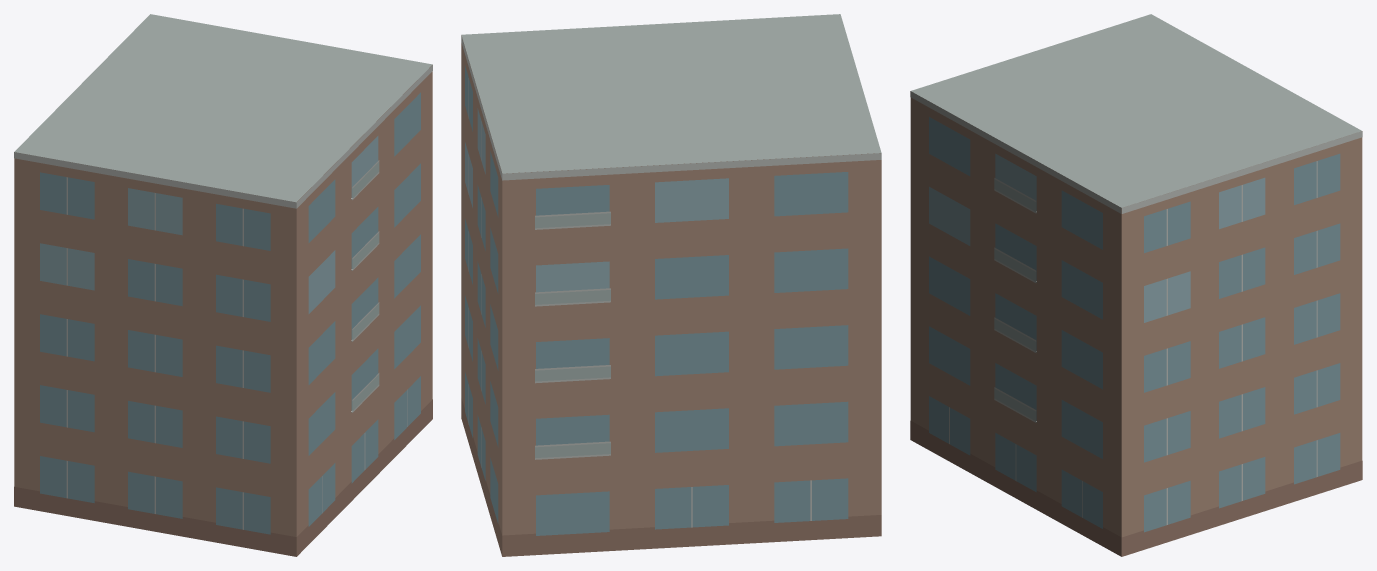
Rendered from survey-upis-32942185.glb.
3 renders of one model, left to right at view 1: azimuth 30°, elevation 25°; view 2: azimuth 150°, elevation 25°; view 3: azimuth 270°, elevation 25°, orthographic. The views are drawn at different scales.
Parts seen in each view (by area): view 1: survey-upis-32942185.tmp; view 2: survey-upis-32942185.tmp; view 3: survey-upis-32942185.tmp.
Boxes of the visible parts, box(x1,y1,x2,y2) form: survey-upis-32942185.tmp: box(14, 14, 432, 556); survey-upis-32942185.tmp: box(461, 14, 881, 556); survey-upis-32942185.tmp: box(910, 14, 1362, 556).
Bounding box in the file's own units: 16.22 × 13.6 × 15.97.
